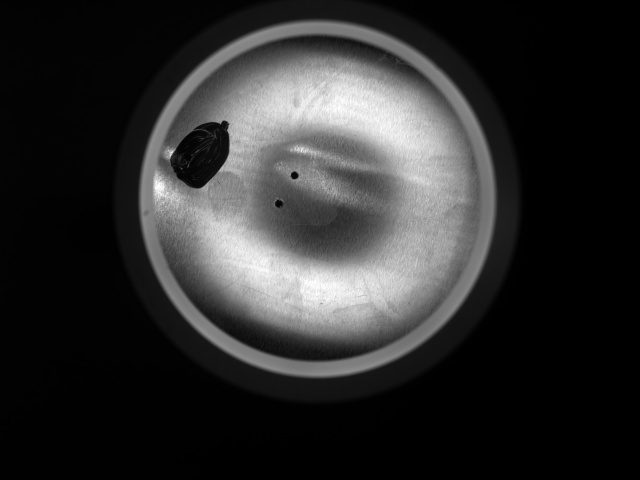zang_wu: (169, 118, 236, 193)
zhen_kong: (270, 195, 288, 211), (289, 168, 300, 182)
